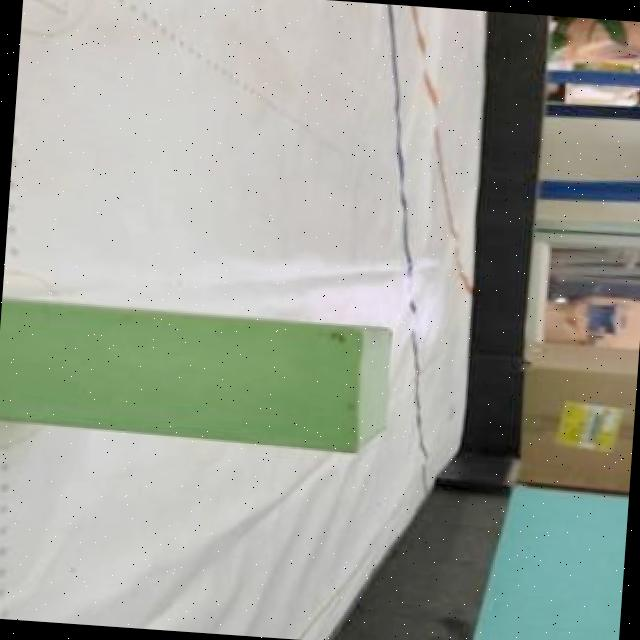greenbox: (0, 296, 397, 455)
